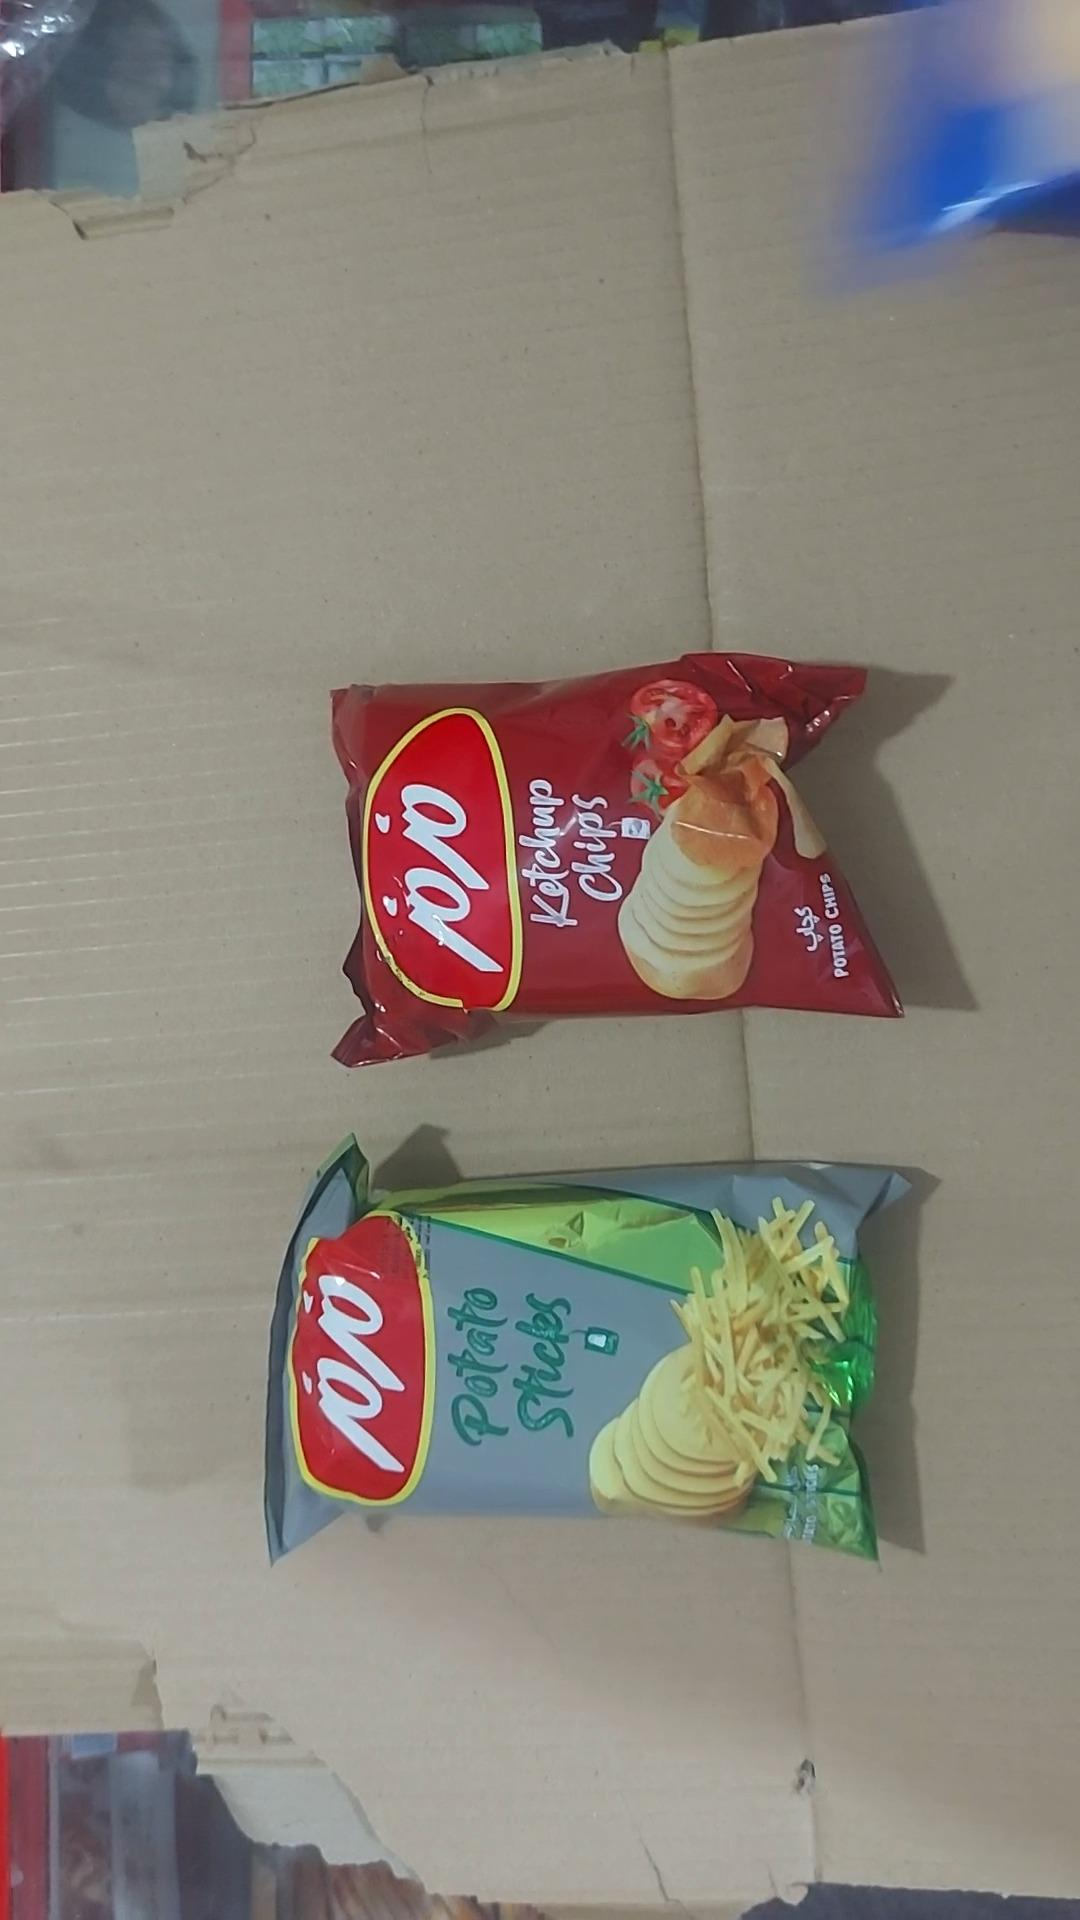Maz Maz ketchup chips: (326, 653, 905, 1071)
Maz Maz potato sticks: (262, 1133, 915, 1564)
